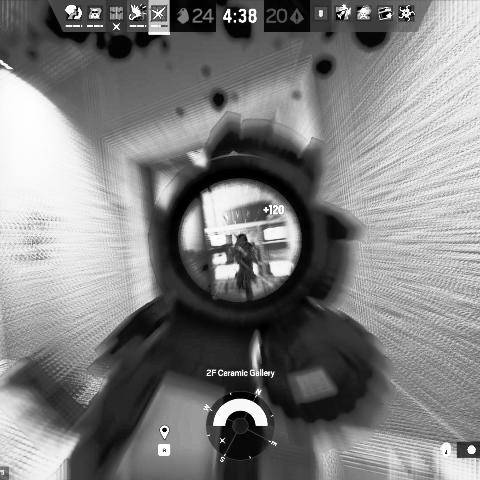Character: (229, 233, 263, 300)
Head: (237, 233, 247, 246)
